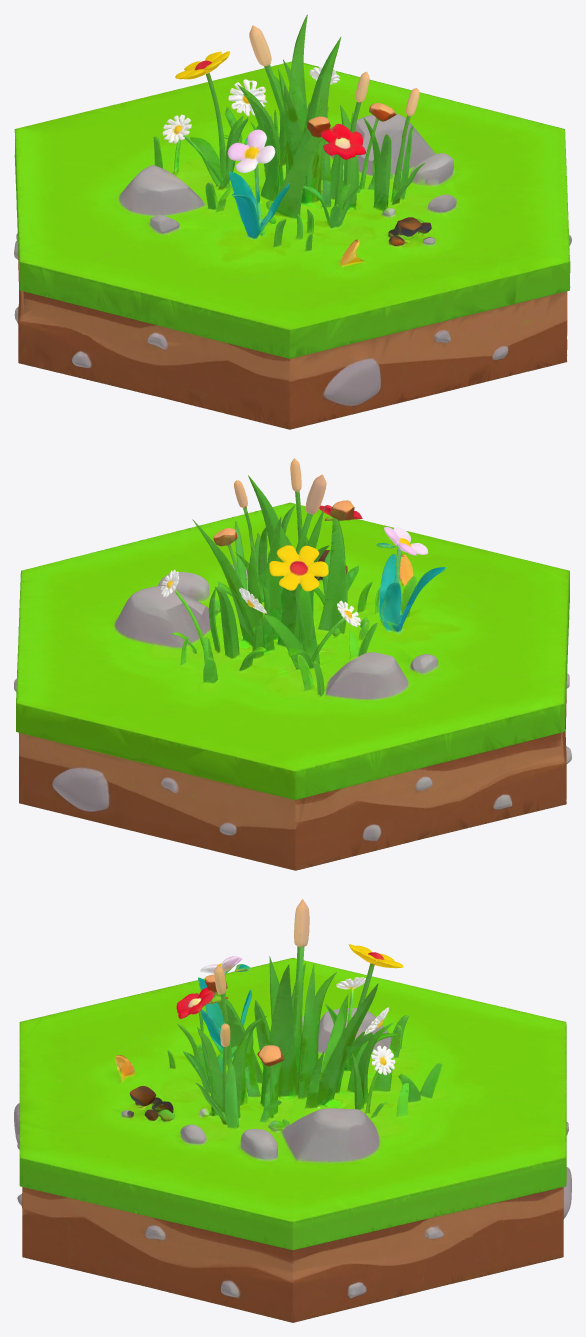
Rendered from meadowtile_lv3.glb.
3 views of the same model, one above another, from view 1: azimuth 30°, elevation 25°; view 2: azimuth 150°, elevation 25°; view 3: azimuth 270°, elevation 25° (orthographic).
Bounding box in the file's own units: 1.9 × 0.9136 × 1.68.
Materials: 1 (1 with a texture image).
